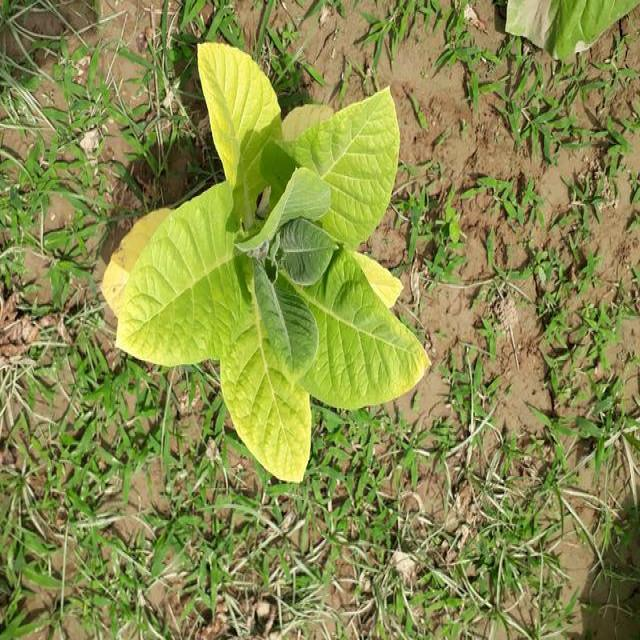crop: (104, 43, 428, 480)
